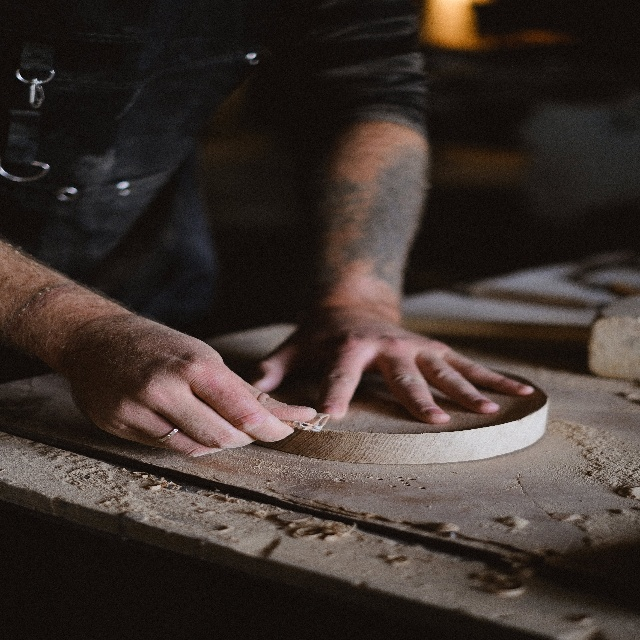Sin_guantes: (71, 295, 318, 453), (244, 316, 536, 435)
